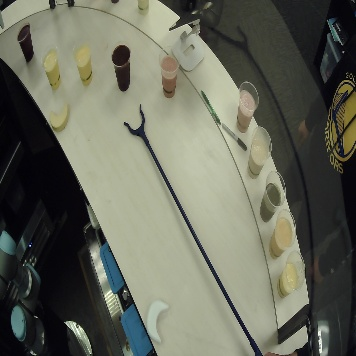full_cup: (268, 209, 296, 260), (258, 171, 286, 222), (245, 126, 272, 178), (276, 252, 304, 301), (235, 81, 259, 132), (158, 45, 179, 97), (110, 40, 131, 92), (72, 38, 94, 86), (40, 45, 62, 92), (17, 21, 34, 63), (136, 1, 149, 15)
puck: (145, 297, 171, 343), (49, 104, 70, 131)
